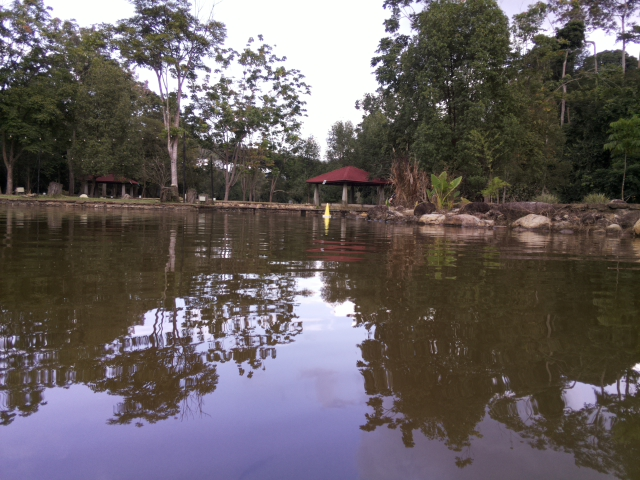checkpoint: (320, 203, 334, 218)
